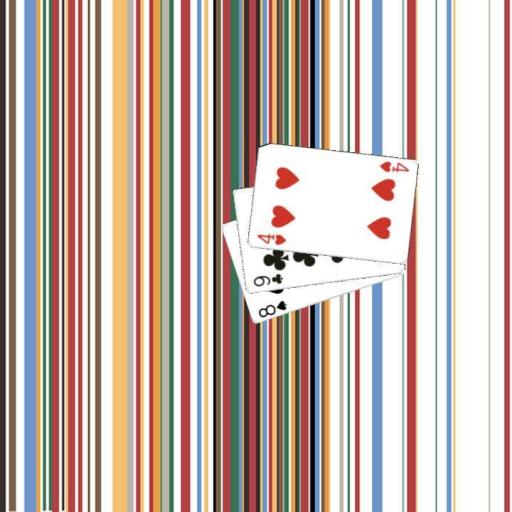card-corner: (255, 298, 288, 319), (250, 271, 284, 289), (254, 230, 287, 247), (376, 158, 410, 174)
